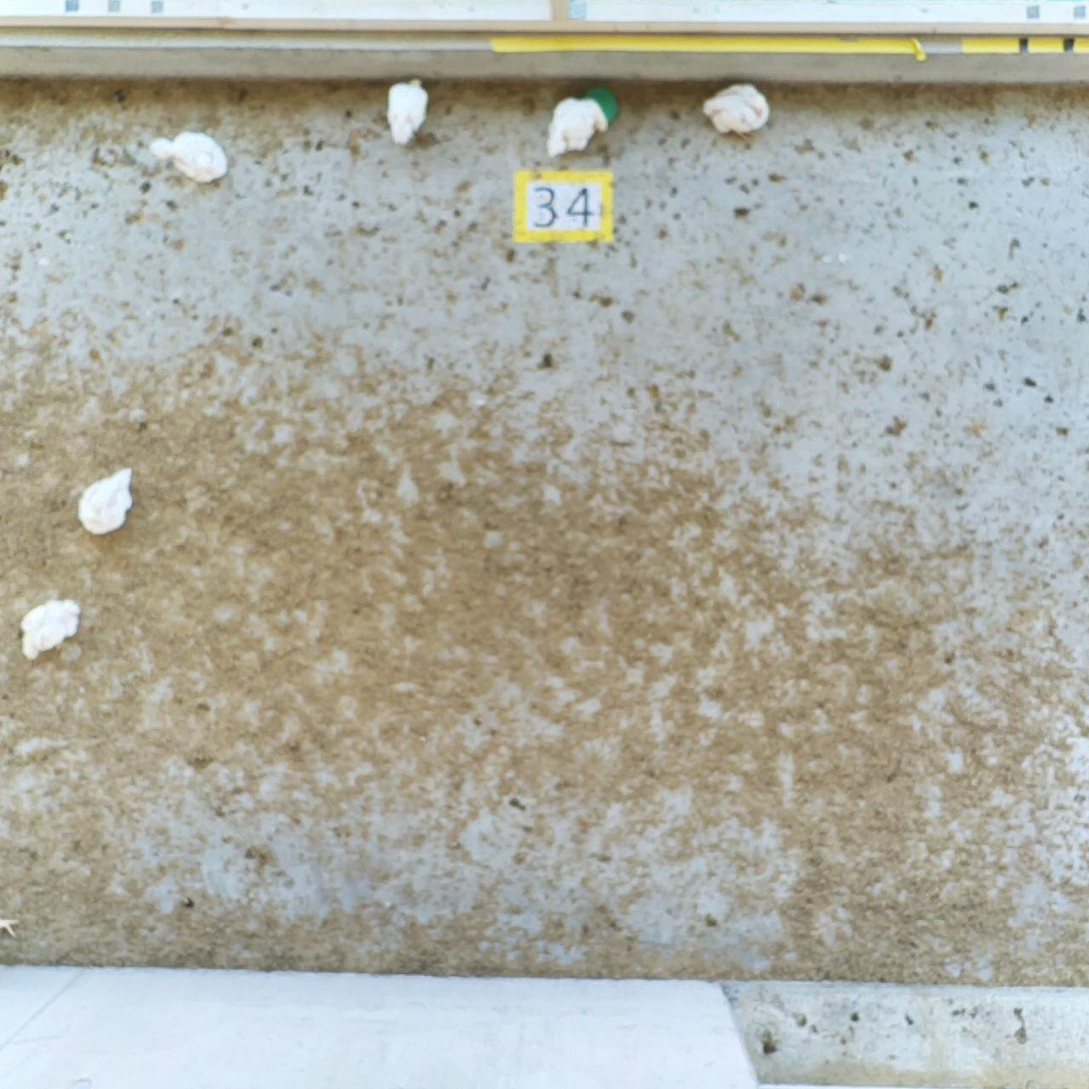chicken: (151, 134, 227, 183), (77, 469, 134, 534), (20, 600, 79, 662), (547, 99, 608, 155), (702, 84, 768, 131), (388, 81, 424, 145)
